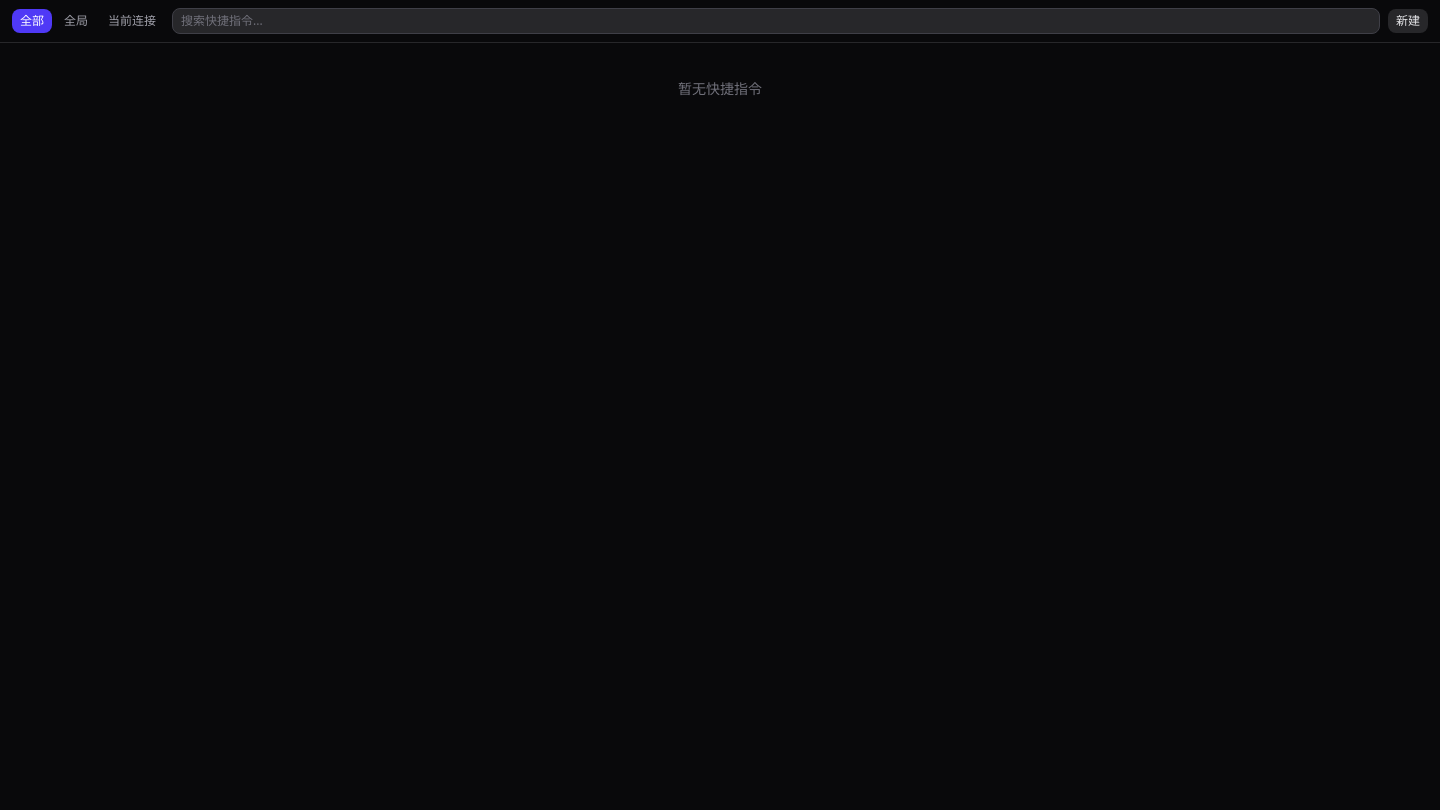
Scenario: 快捷指令弹窗的内联提示 › 校验失败（名称为空）显示在弹窗内，且不再重复渲染到弹窗背后
This screenshot has width=1440, height=810.
Click the button "新建". click: (1408, 21)
box: [1388,9,1428,33]
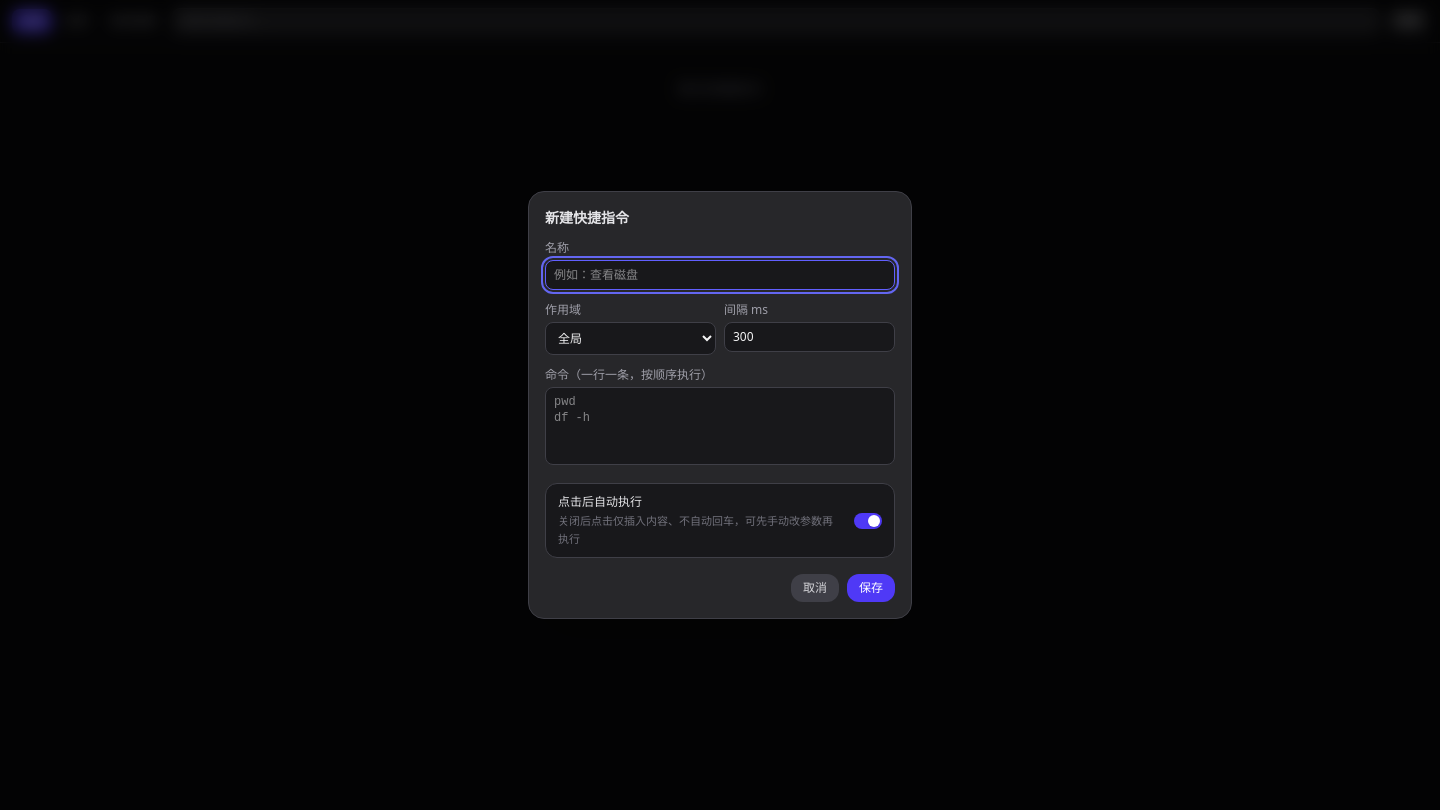
Select "全局" in the dropdown. click: (630, 338)
box: [545,322,716,355]
Click the button "保存". click: (871, 588)
box: [847,574,895,602]
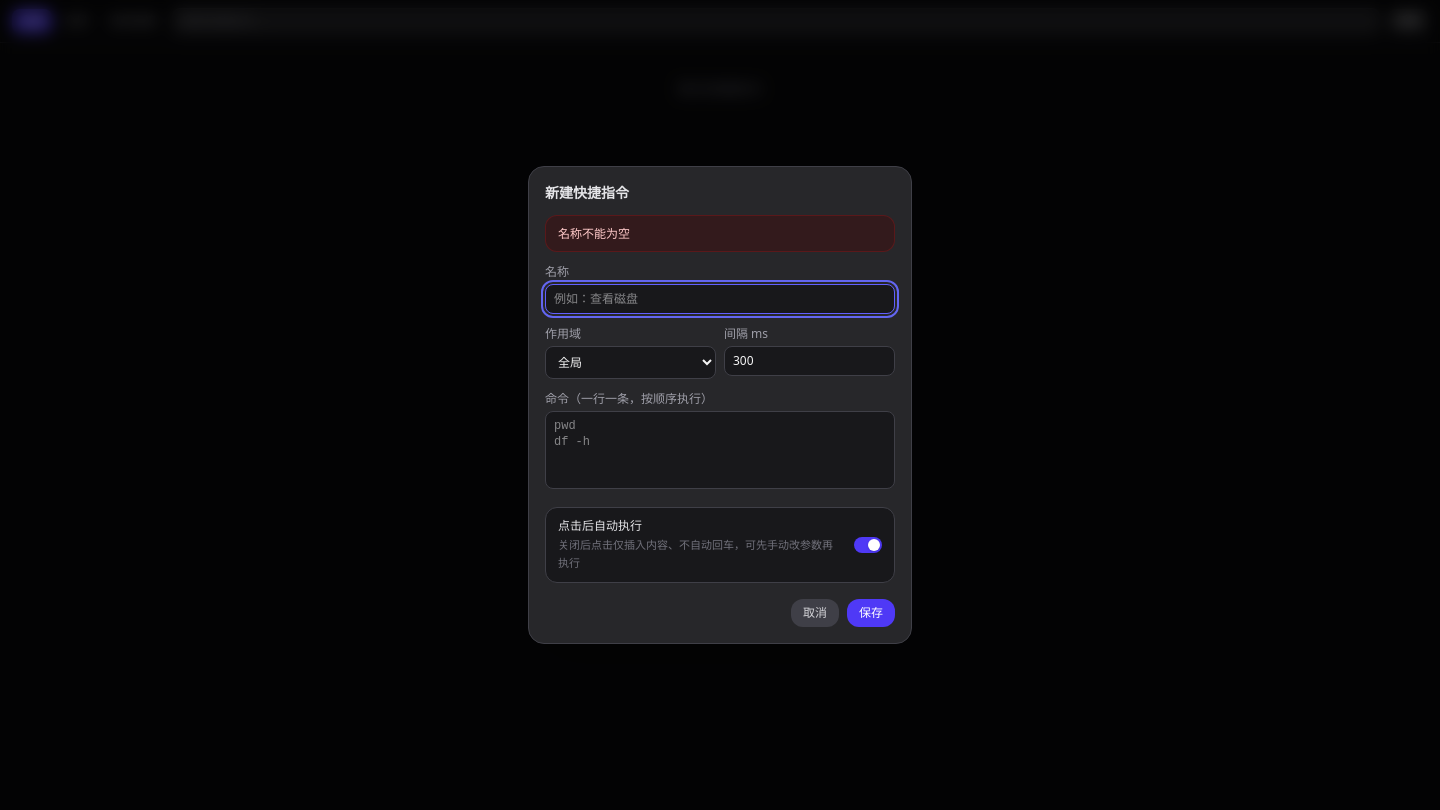
Now the element with class "modal-panel-enter" shows "名称不能为空", box [558,225,630,242]
Now the message "名称不能为空" is shown, box [545,215,895,252]
